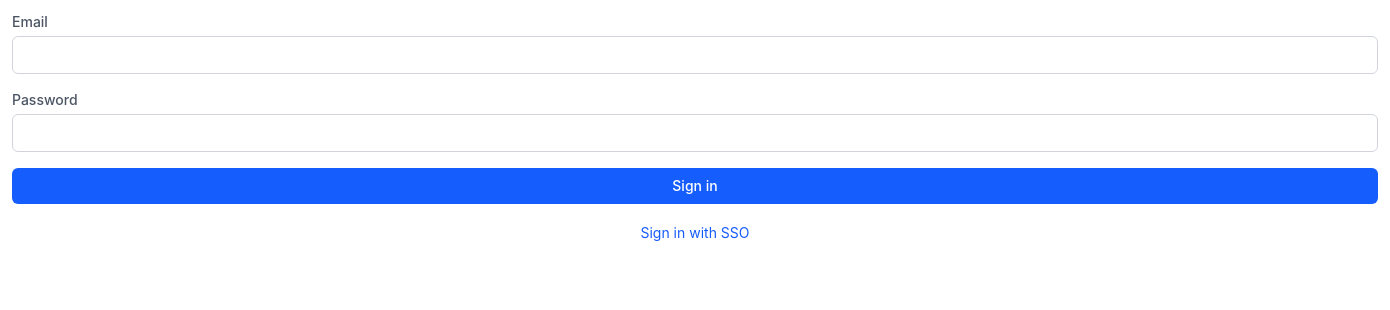
LoginForm shows error on failed login
Type "bad@test.com" into the field labelled "Email" at (695, 55), box [12, 36, 1378, 74]
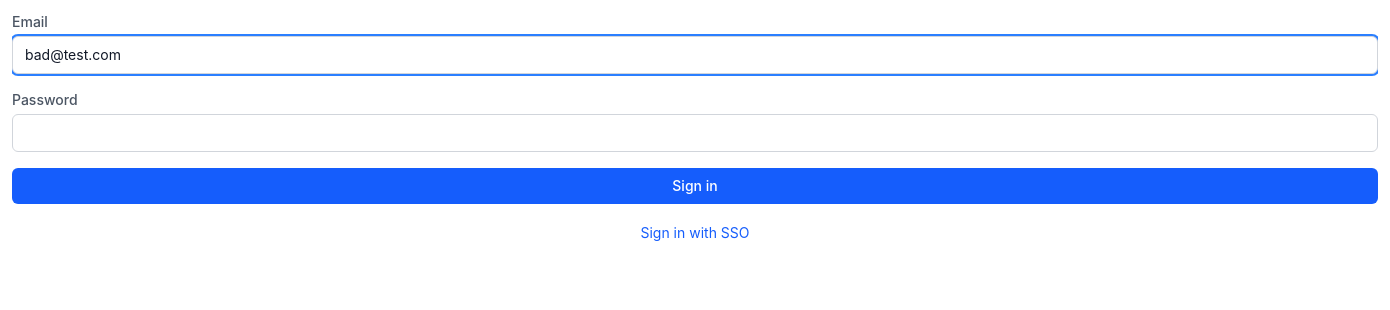
Type "wrong" into the password field labelled "Password" at (695, 133), box [12, 114, 1378, 152]
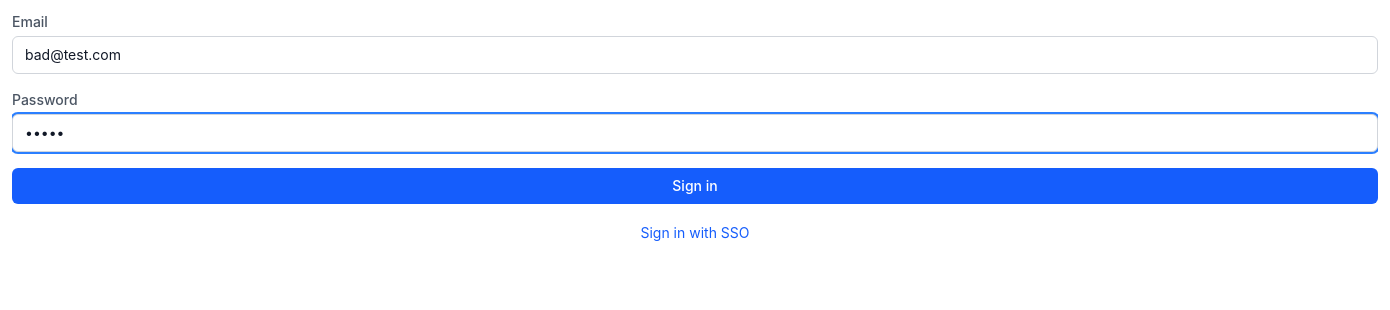
Click the button "Sign in" at (695, 186), box [12, 168, 1378, 204]
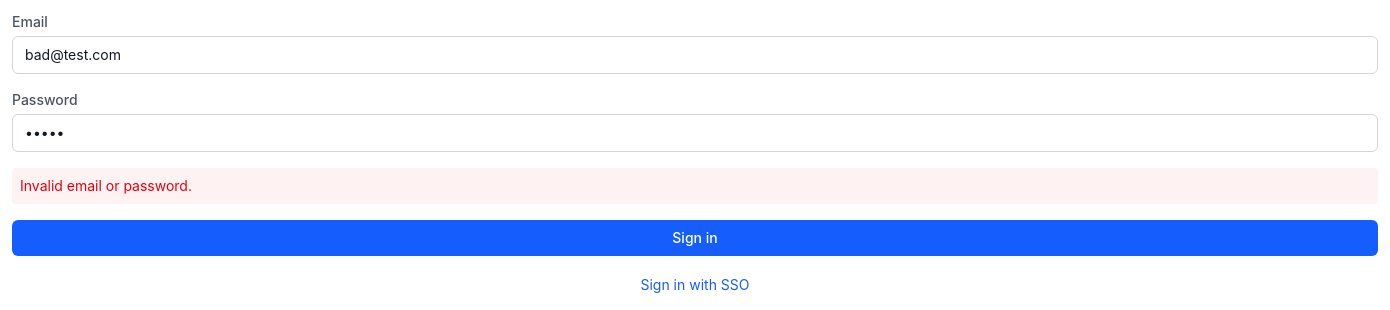
Expected: the message "Invalid email or password." is shown, [12, 168, 1378, 204]
